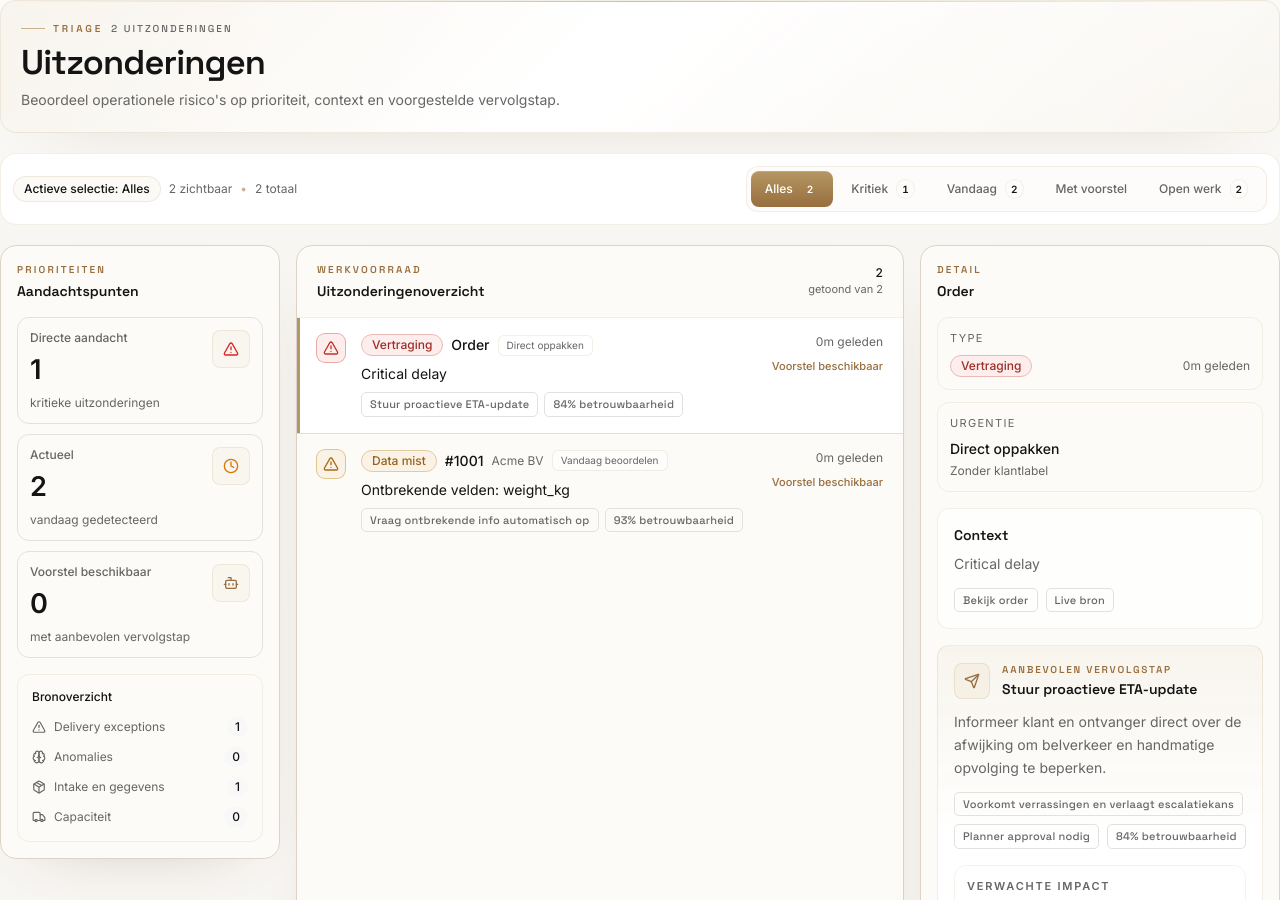
Test: Exceptions › filters to critical exceptions via the planner focus
Click the button "Kritiek 1" at (883, 189), box [837,171,929,207]
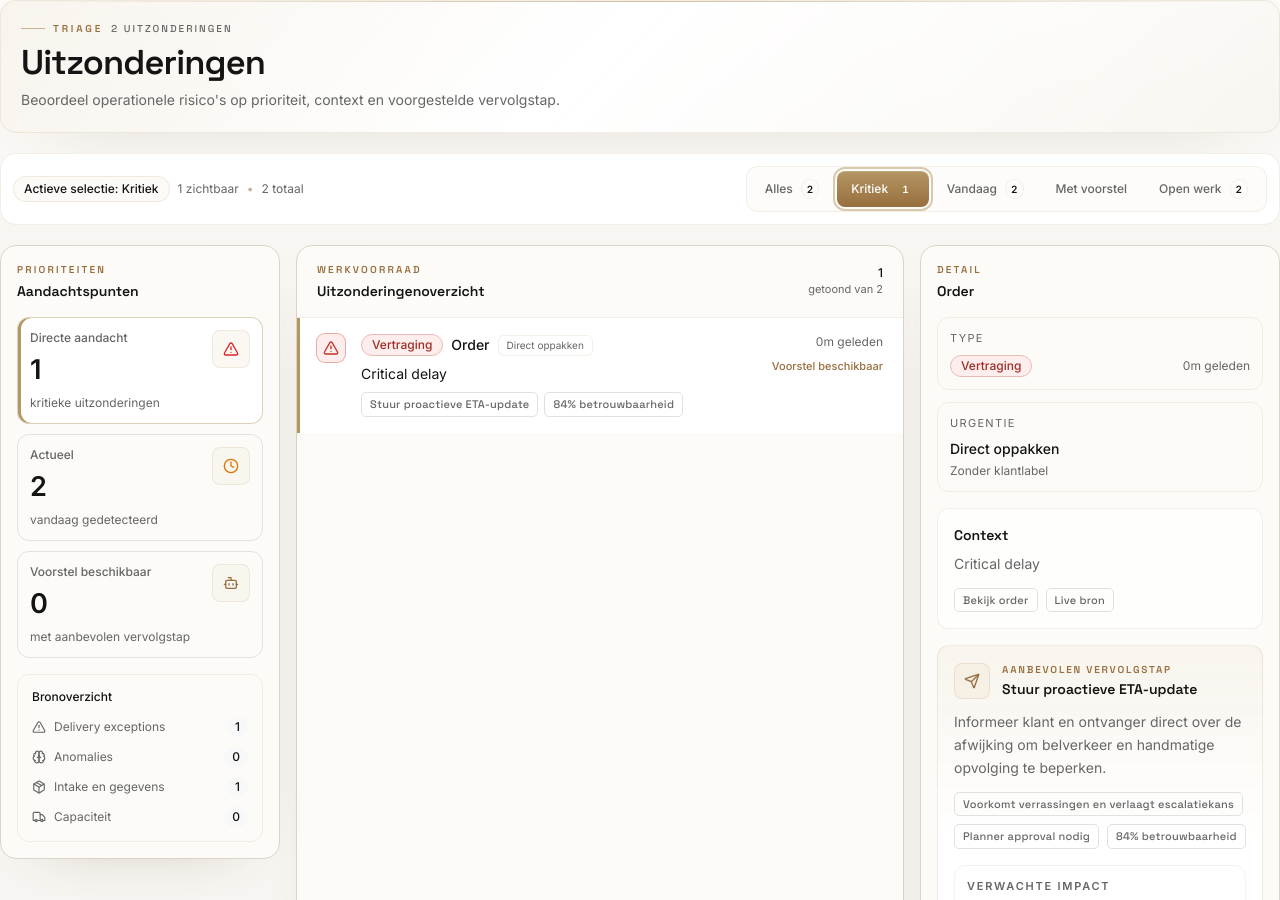
Result: the text "Actieve selectie: Kritiek" is shown at [13,176,170,202]
Result: the button "Ontbrekende velden" is gone
